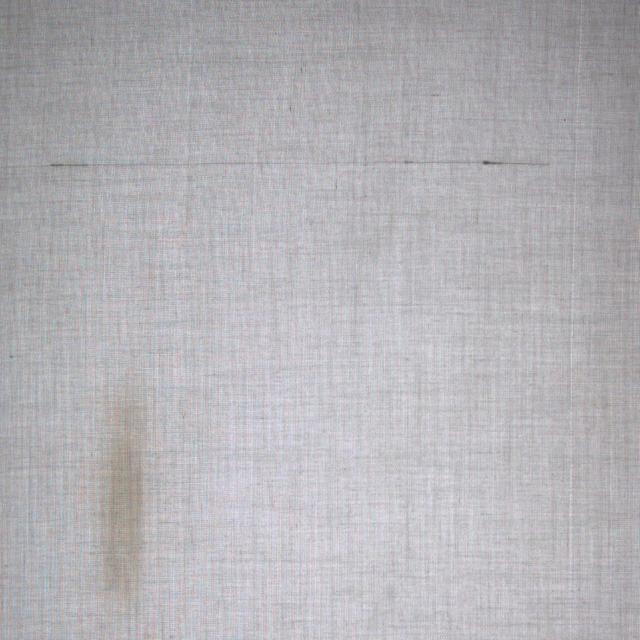dirty: (104, 387, 144, 589)
